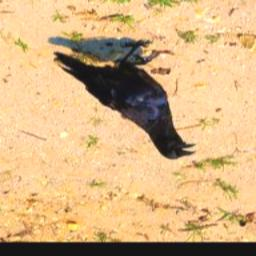Crow: (55, 41, 197, 161)
